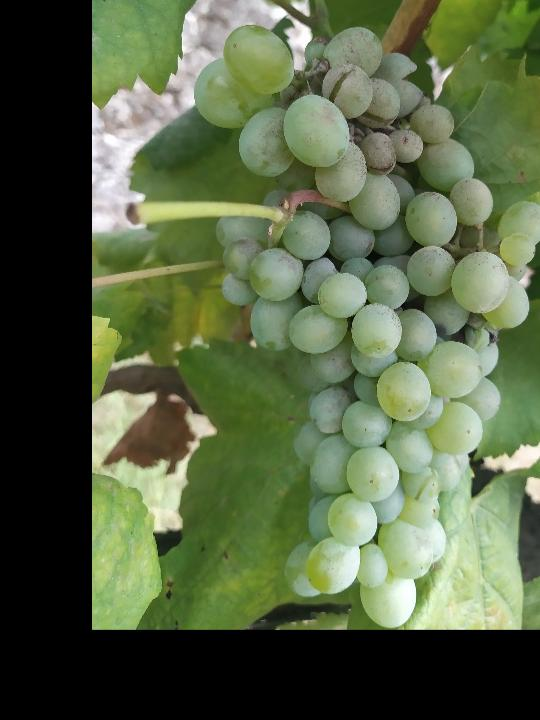grape: (190, 22, 540, 628)
